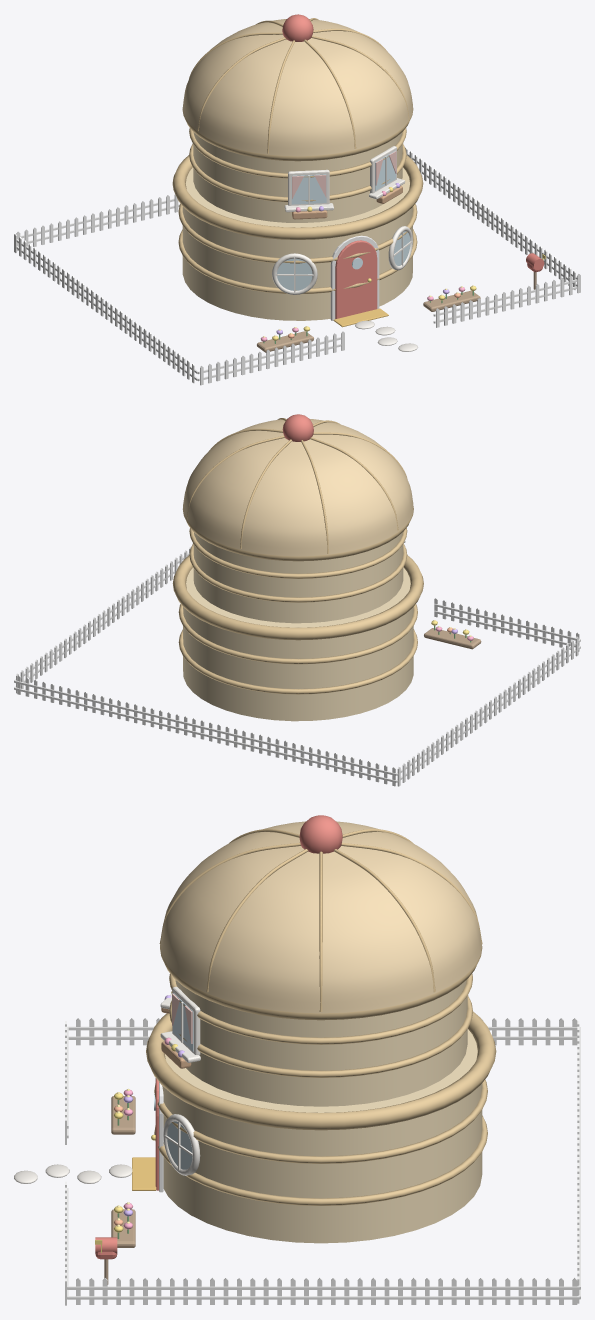
File: building_dumpling_L07.glb
3 renders of one model, top to bottom at view 1: azimuth 30°, elevation 25°; view 2: azimuth 150°, elevation 25°; view 3: azimuth 270°, elevation 25°, orthographic. The views are drawn at different scales.
Parts seen in each view (by area): view 1: Body, dumpling_L7; view 2: Body, dumpling_L7; view 3: Body, dumpling_L7.
Part boxes in pixels (<box>): Body: <box>172,14,423,327</box>; dumpling_L7: <box>14,147,580,385</box>; Body: <box>172,414,423,721</box>; dumpling_L7: <box>14,547,580,786</box>; Body: <box>132,815,496,1243</box>; dumpling_L7: <box>14,1018,580,1305</box>.
Size of the model in its own units: 25.35 by 16.28 by 23.24.
